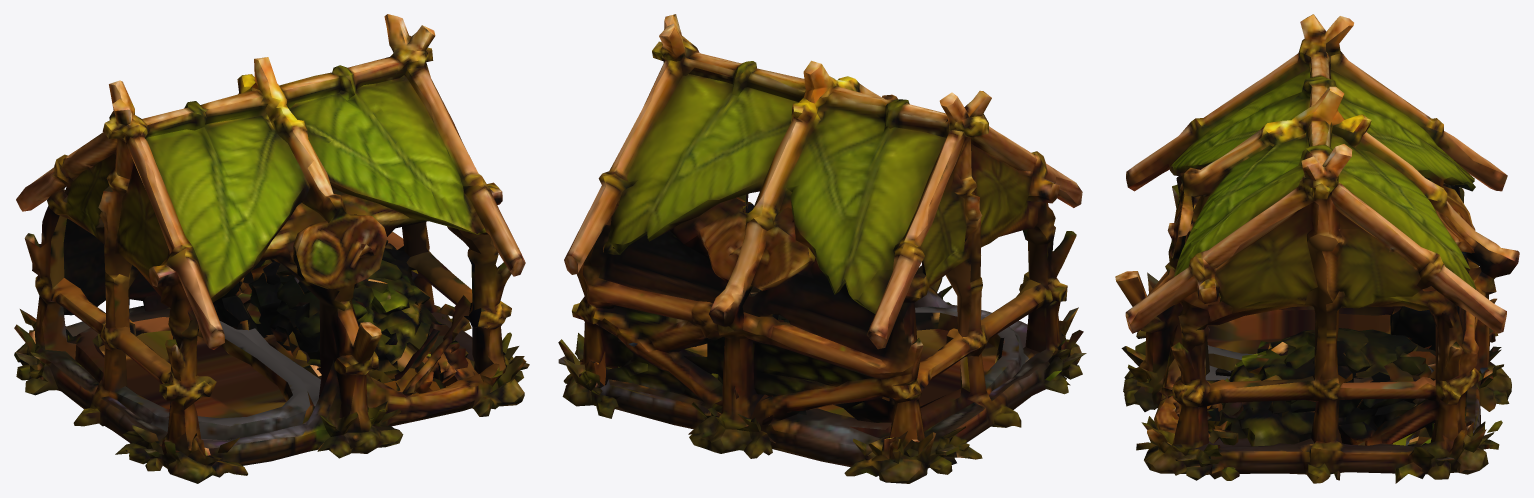
File: Storehouse.glb
3 views of the same model, side by side, from view 1: azimuth 30°, elevation 25°; view 2: azimuth 150°, elevation 25°; view 3: azimuth 270°, elevation 25° (orthographic). The views are drawn at different scales.
Size of the model in its own units: 1.99 by 1.55 by 1.8.
1 material, 1 textured.
